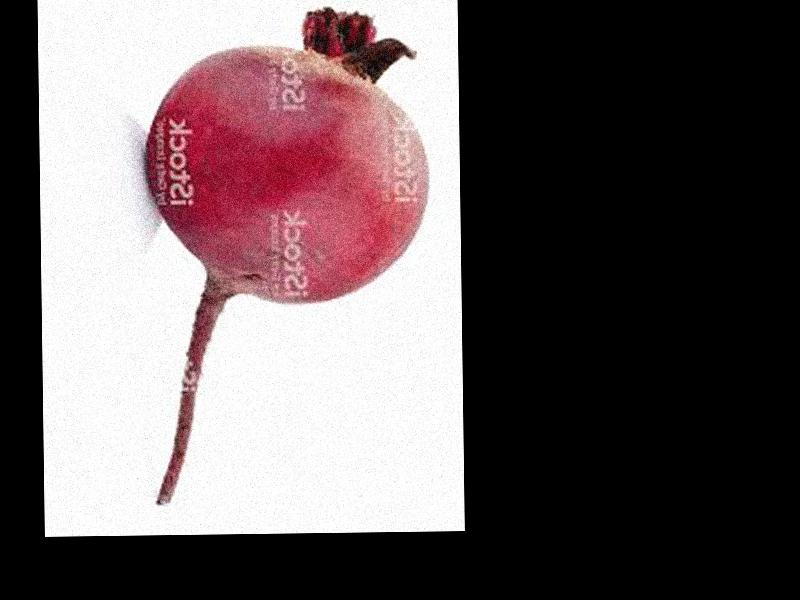Beet: (143, 7, 431, 502)
